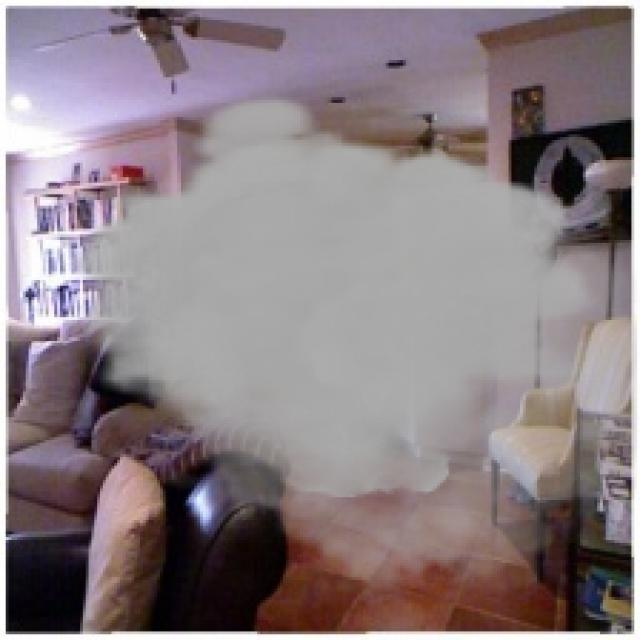smoke: (69, 91, 637, 608)
